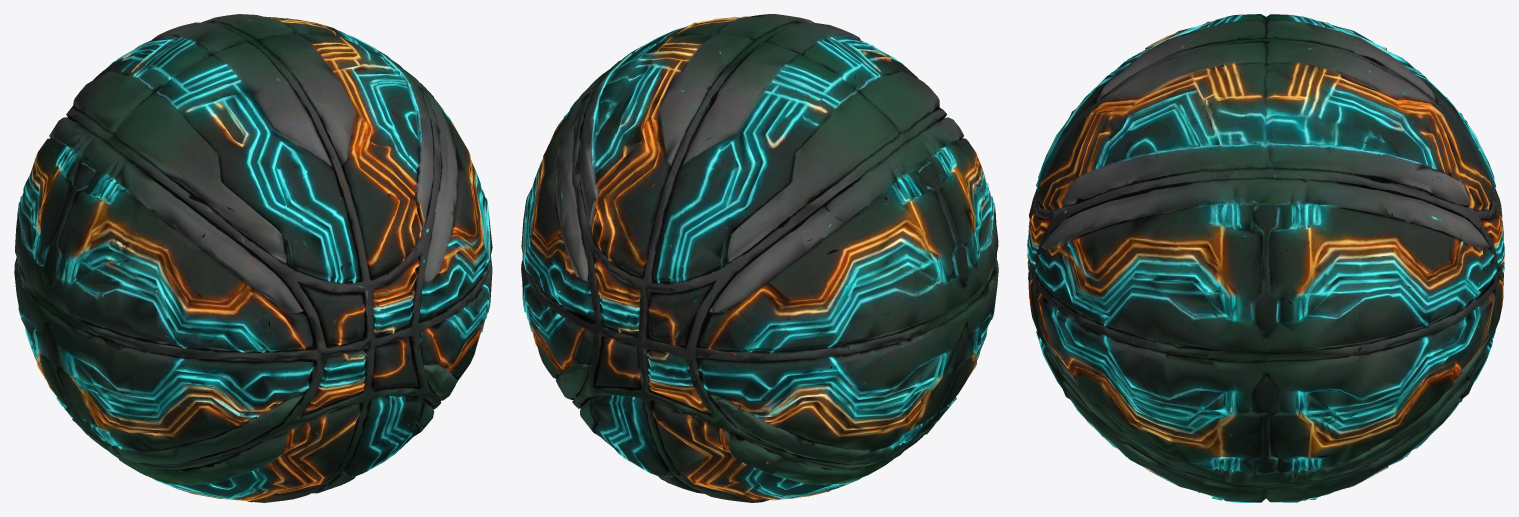
File: a3D-modernball.glb
3 views of the same model, side by side, from view 1: azimuth 30°, elevation 25°; view 2: azimuth 150°, elevation 25°; view 3: azimuth 270°, elevation 25° (orthographic).
Visible parts, largest first — view 1: geometry_0; view 2: geometry_0; view 3: geometry_0.
Part boxes in pixels (x1,y1,x2,y2): geometry_0: (14,14,492,502); geometry_0: (521,14,998,502); geometry_0: (1027,14,1504,502).
Size of the model in its own units: 1.86 by 1.9 by 1.86.
Materials: 1 (1 with a texture image).
